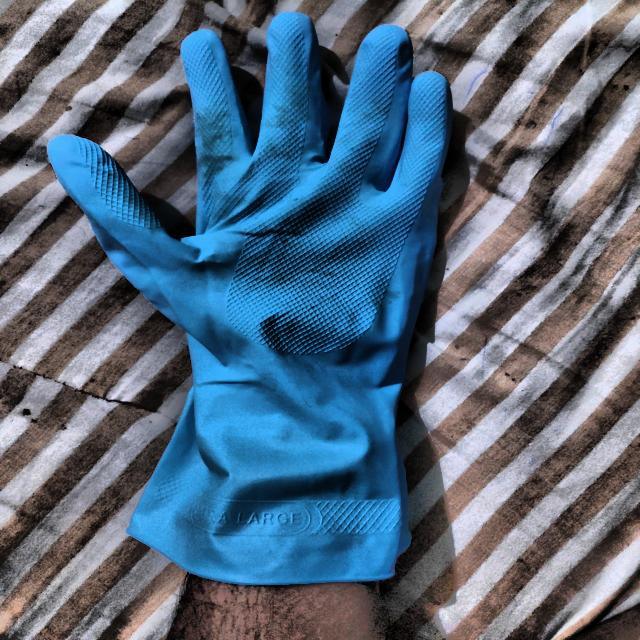gloved: (38, 11, 460, 589)
